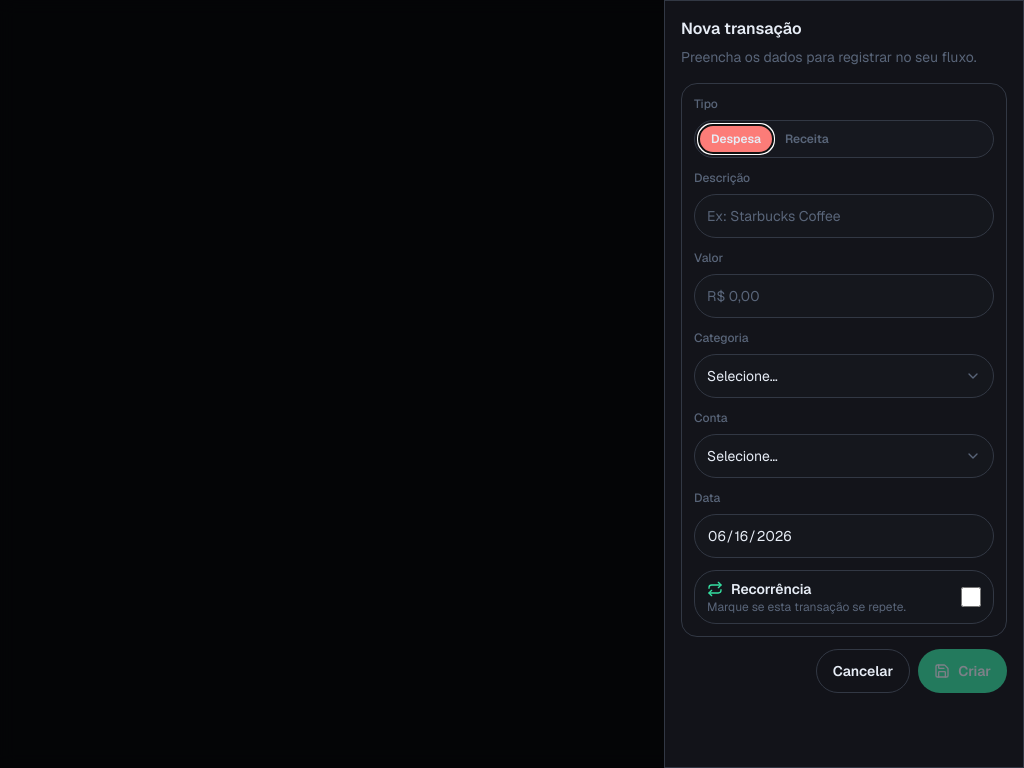
Test: TransactionFormSheet › allows selecting category and account
# Category select
What coordinates should you click on to do the following:
click the dropdown named "Selecionar categoria"
I would click on:
 (742, 376)
Its box is [694,354,994,398].
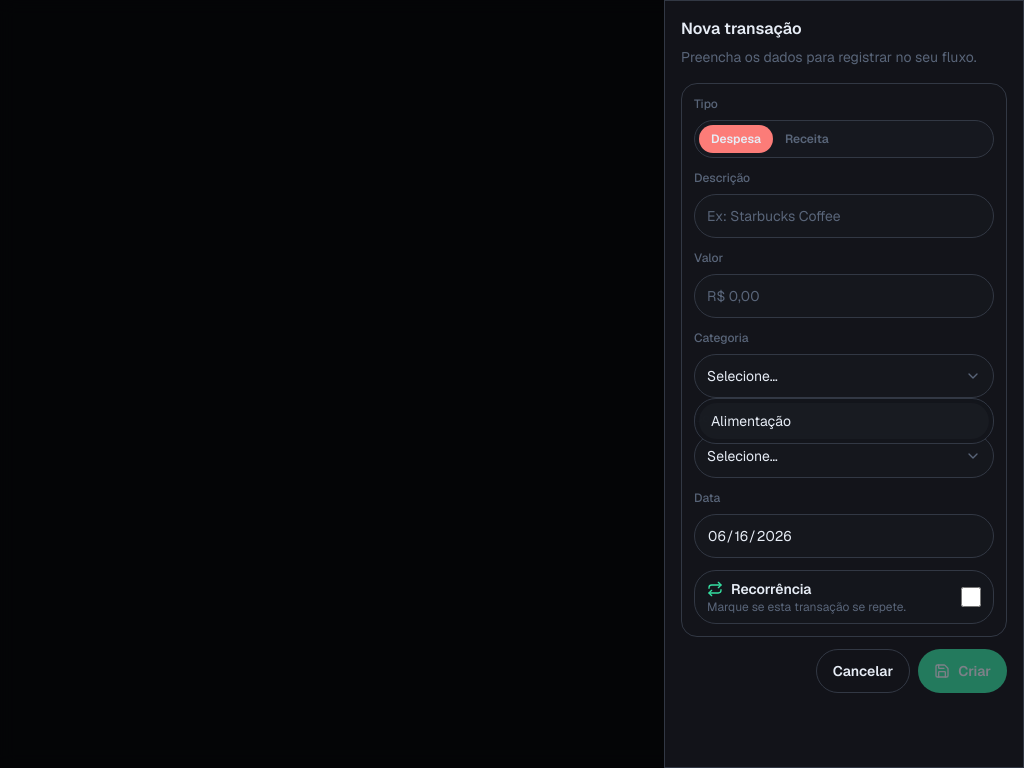
What coordinates should you click on to do the following:
click the option "Alimentação"
I would click on:
 (751, 421)
Its box is [699,403,989,439].
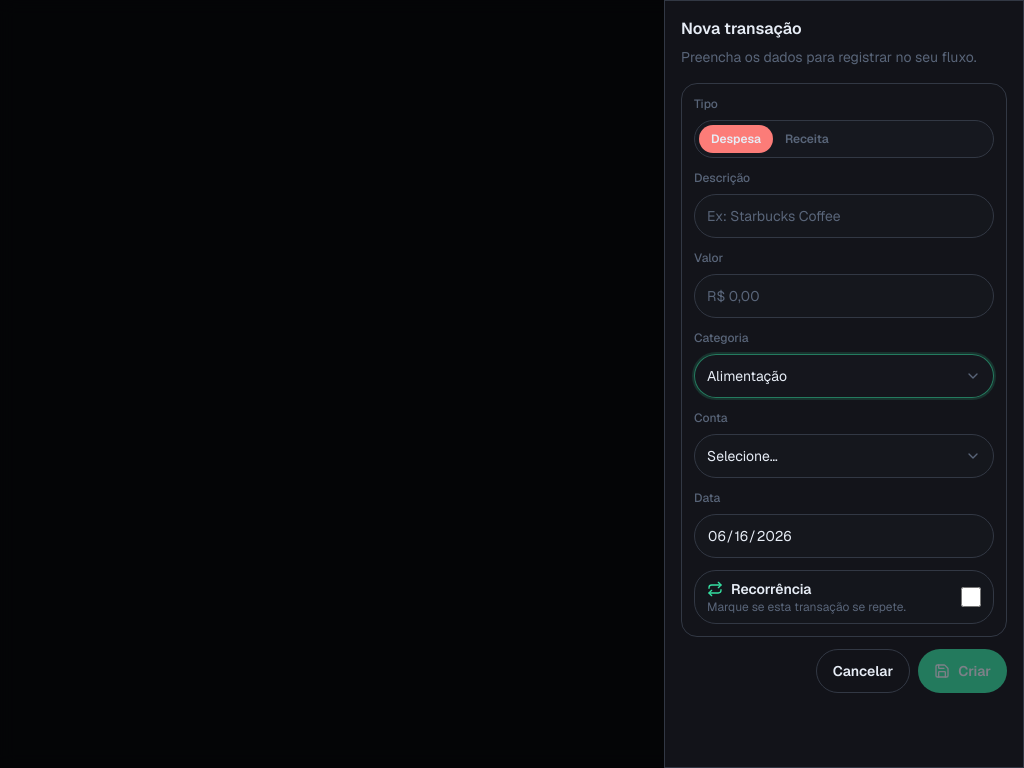
# Account select
What coordinates should you click on to do the following:
click the dropdown named "Selecionar conta"
I would click on:
 (742, 456)
Its box is [694,434,994,478].
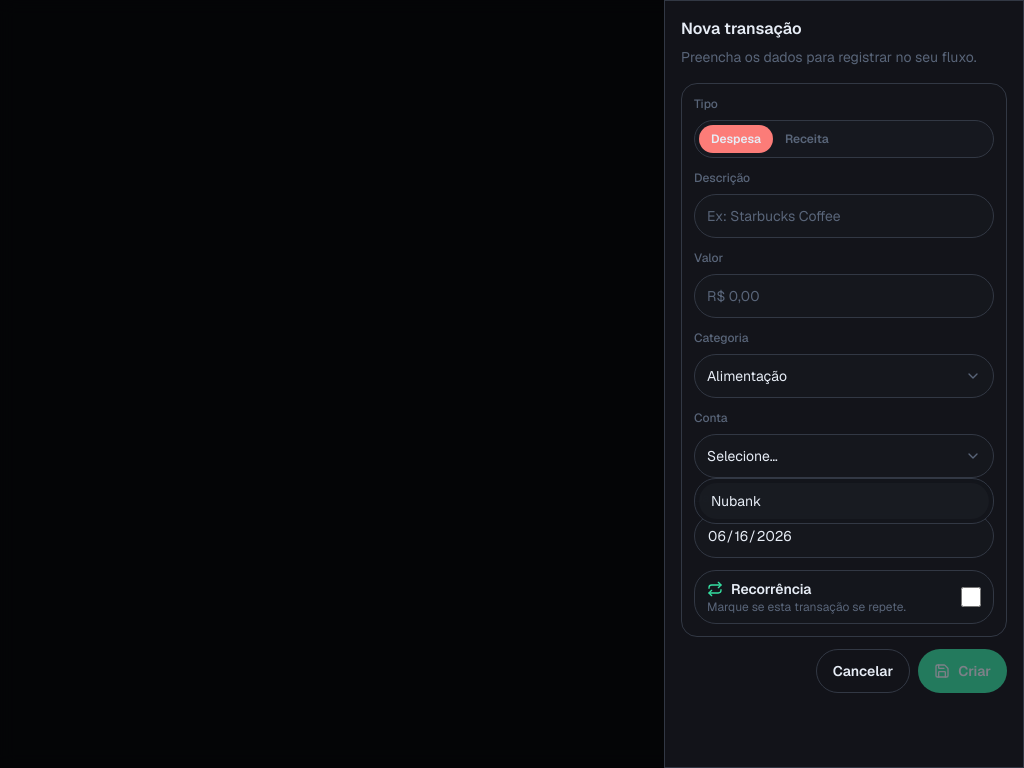
What coordinates should you click on to do the following:
click the option "Nubank"
I would click on:
 (736, 501)
Its box is [699,483,989,519].
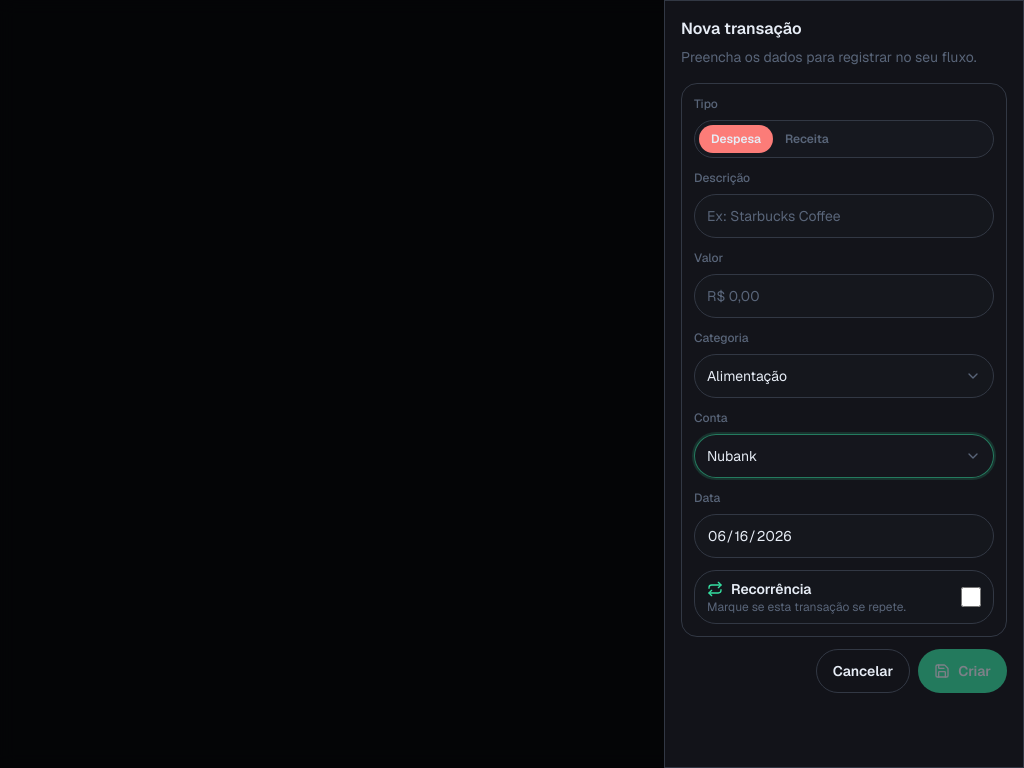
Expected: the dropdown named "Selecionar categoria" reads "Alimentação", [694,354,994,398]
Expected: the dropdown named "Selecionar conta" reads "Nubank", [694,434,994,478]
